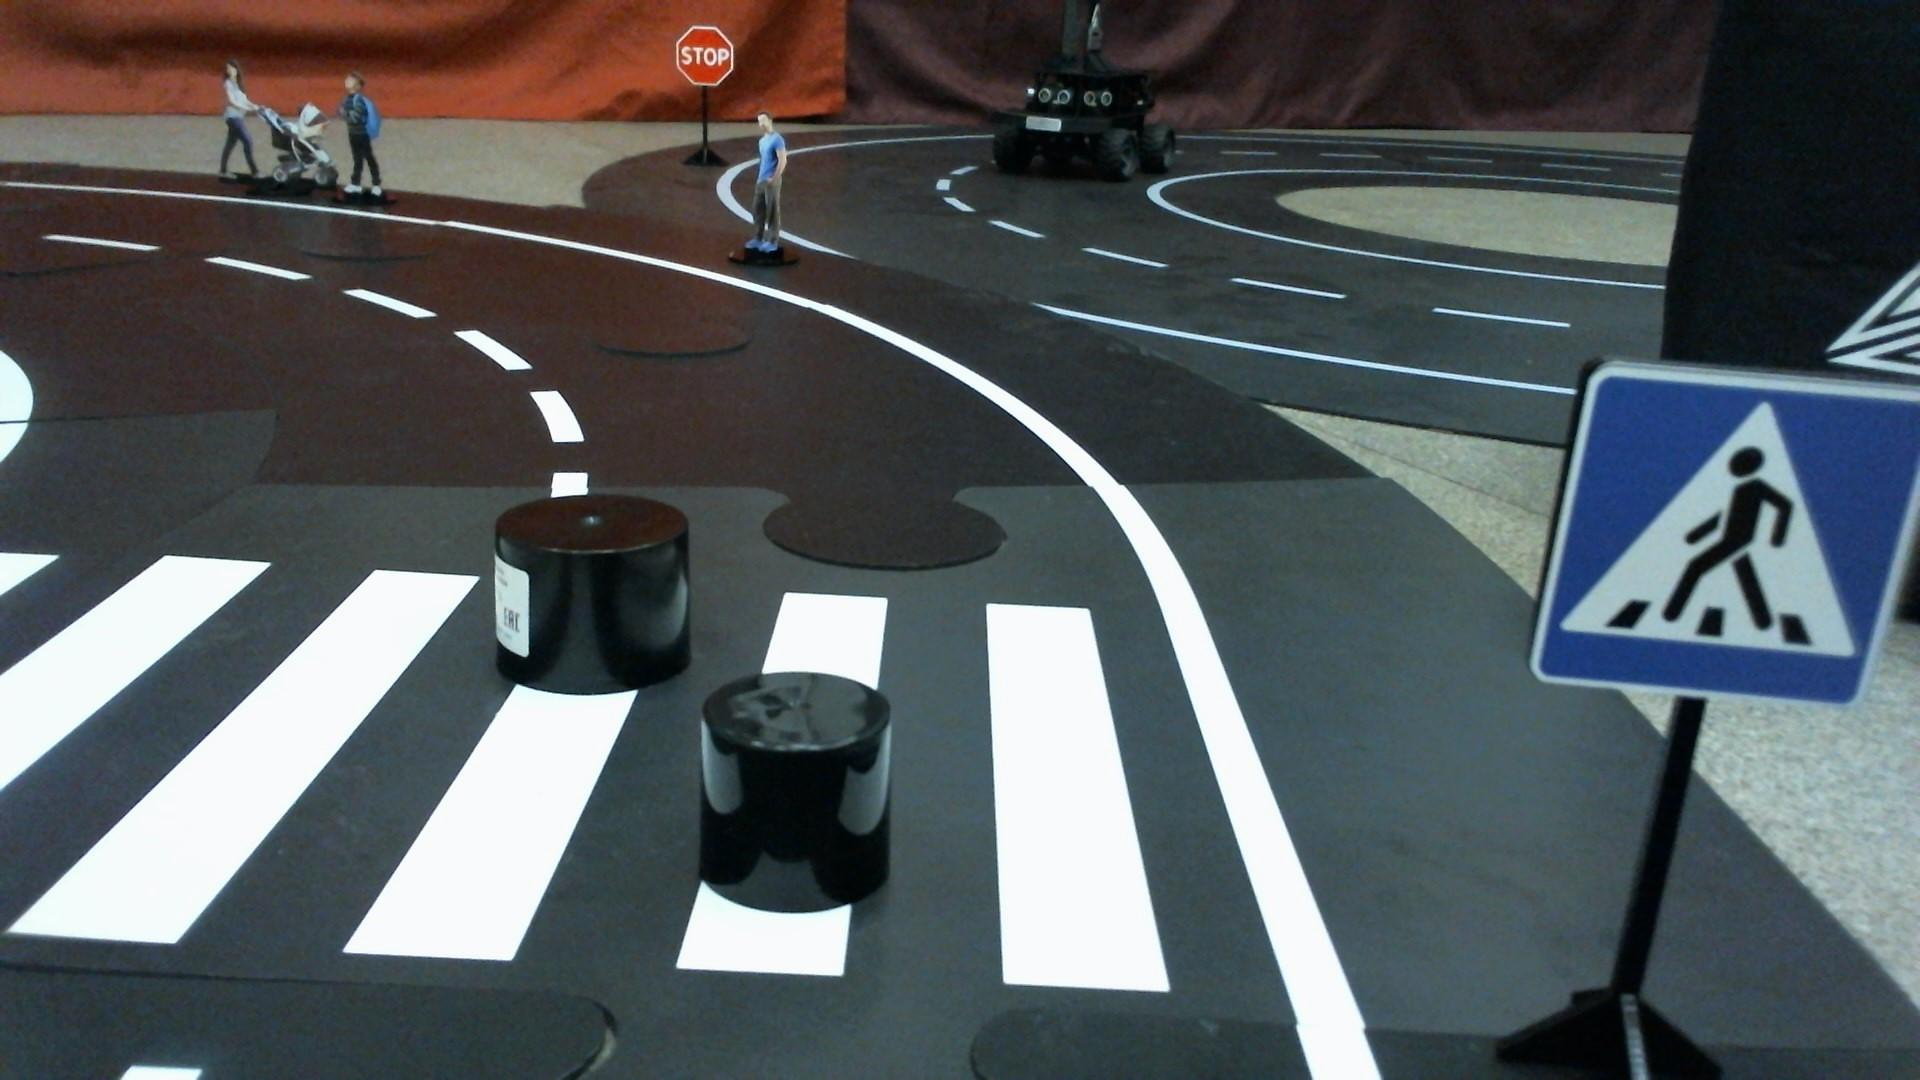barricade: (693, 668, 888, 915), (485, 490, 698, 692)
crossing: (0, 520, 1223, 1017)
person: (213, 55, 323, 195), (738, 105, 795, 255), (333, 70, 387, 200)
